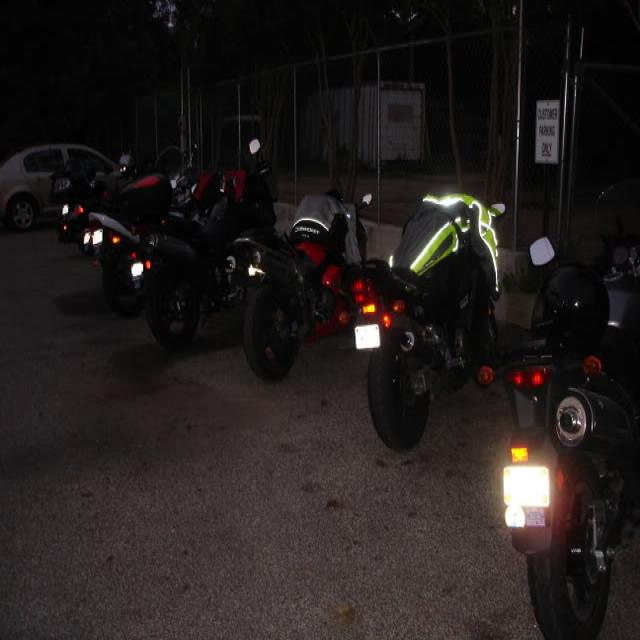Motorbike: (333, 193, 640, 640), (164, 141, 496, 475), (33, 130, 228, 292)
